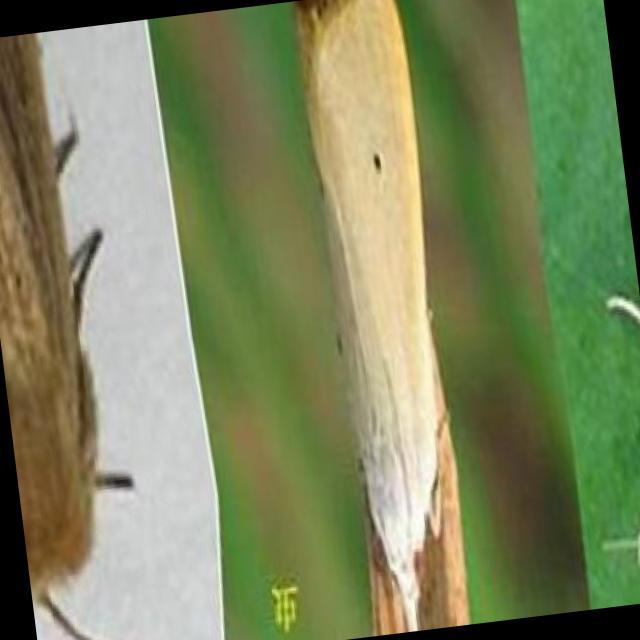stem-borer: (291, 0, 481, 636)
